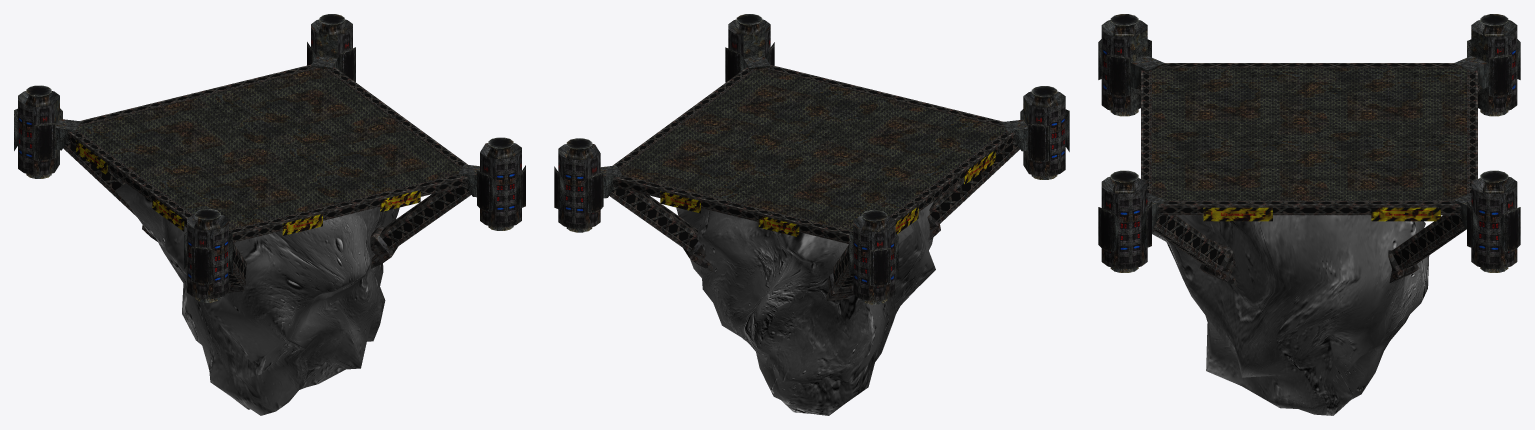
The model's file is Station02.fbx.
The picture shows the model from 3 angles, left to right: view 1: azimuth 30°, elevation 25°; view 2: azimuth 150°, elevation 25°; view 3: azimuth 270°, elevation 25°; orthographic projection. The views are drawn at different scales.
Visible parts, largest first — view 1: Box02, Sphere01, Cylinder11; view 2: Box02, Sphere01, Cylinder11; view 3: Box02, Sphere01, Cylinder11.
Part boxes in pixels (x1,y1,x2,y2): Box02: (63, 64, 471, 292); Sphere01: (115, 183, 399, 415); Cylinder11: (14, 14, 525, 302); Box02: (609, 65, 1019, 301); Sphere01: (676, 201, 935, 415); Cylinder11: (554, 14, 1069, 304); Box02: (1138, 63, 1480, 286); Sphere01: (1152, 215, 1429, 415); Cylinder11: (1098, 14, 1520, 272).
Bounding box in the file's own units: 325 × 269 × 324.
